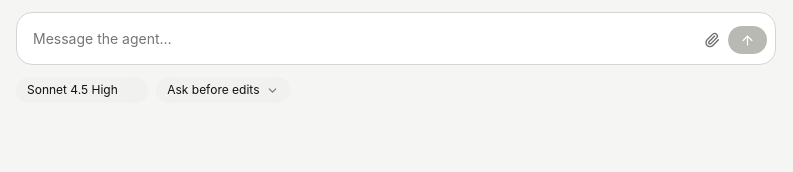
it: a refused send › falls back to its own sentence for a code with no table entry
Click the text box labelled "Message the agent…" at (362, 38), box x1=33 y1=21 x2=690 y2=56
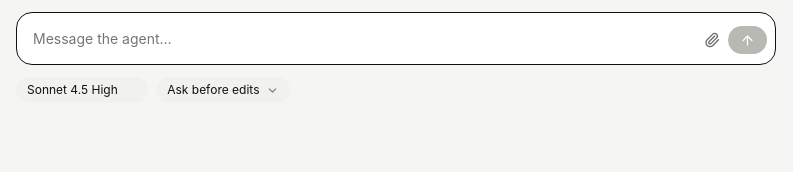
Type keys "run the tests"
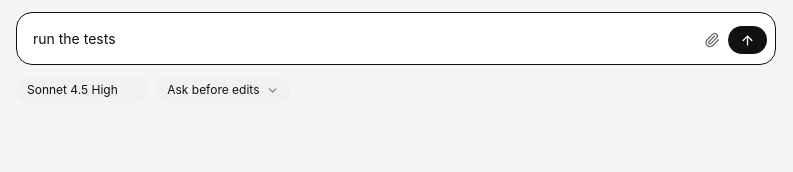
Click the button named "Send" at (748, 40), box x1=728 y1=26 x2=767 y2=54
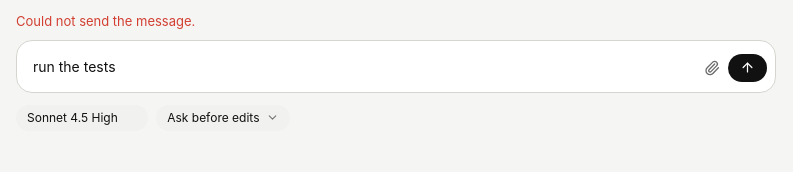
Result: the text "Could not send the message." is shown at x1=16 y1=13 x2=195 y2=29
